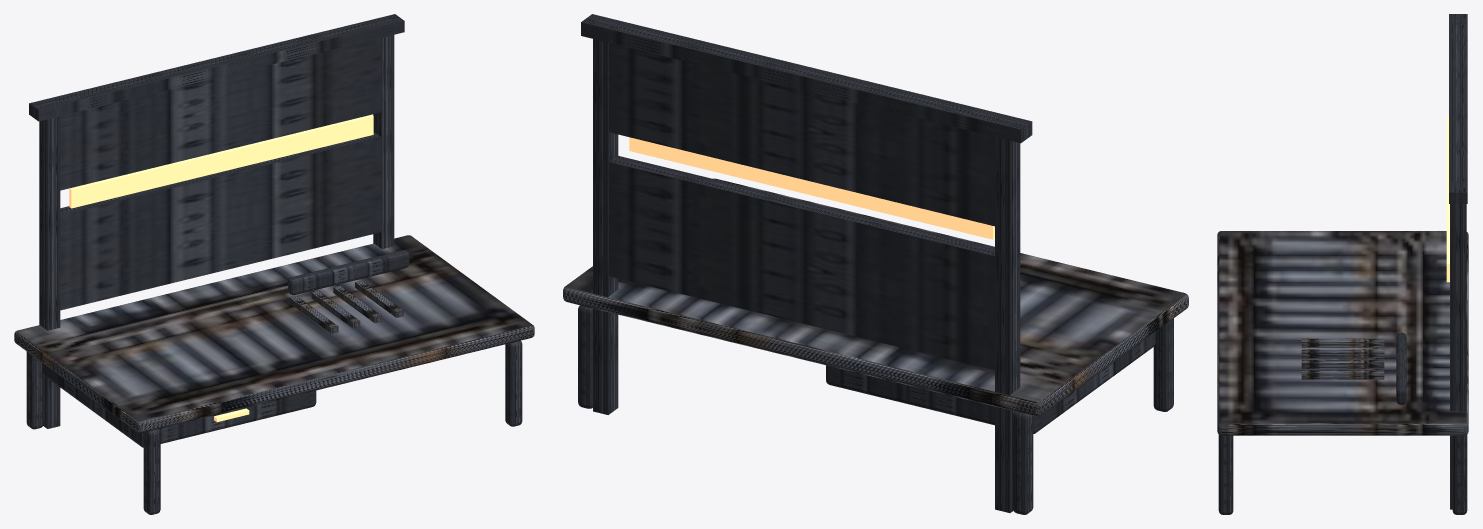
File: engine_toolbench.glb
The picture shows the model from 3 angles, left to right: view 1: azimuth 30°, elevation 25°; view 2: azimuth 150°, elevation 25°; view 3: azimuth 270°, elevation 25°; orthographic projection. The views are drawn at different scales.
Parts seen in each view (by area): view 1: sight_shell, top, sightglow, drawer, rack, leg20, leg00, leg02, tool1, tool3, tool0, tool2; view 2: sight_shell, top, sightglow, drawer, leg02, leg00, leg22; view 3: top, sight_shell, leg20, leg22, tool3, tool0, tool1, tool2, rack, sightglow.
Part boxes in pixels (x1,y1,x2,y2): sight_shell: (29, 14, 404, 428); top: (14, 235, 534, 433); sightglow: (69, 114, 373, 208); drawer: (42, 363, 316, 447); rack: (288, 250, 409, 295); leg20: (505, 340, 522, 426); leg00: (143, 429, 160, 514); leg02: (26, 351, 43, 429); tool1: (311, 291, 360, 328); tool3: (355, 280, 403, 317); tool0: (290, 296, 338, 333); tool2: (333, 285, 381, 322); sight_shell: (581, 14, 1032, 512); top: (563, 178, 1188, 416); sightglow: (629, 137, 994, 239); drawer: (826, 332, 1155, 433); leg02: (1013, 411, 1033, 514); leg00: (1153, 318, 1173, 411); leg22: (578, 305, 592, 408); top: (1217, 231, 1468, 435); sight_shell: (1449, 14, 1467, 509); leg20: (1218, 434, 1233, 514); leg22: (1452, 434, 1467, 514); tool3: (1301, 370, 1384, 379); tool0: (1301, 338, 1384, 347); tool1: (1301, 349, 1384, 358); tool2: (1301, 359, 1384, 368); rack: (1396, 332, 1406, 404); sightglow: (1446, 116, 1449, 282).
Size of the model in its own units: 2.2 by 1.7 by 1.2.
Materials: 5 (3 with a texture image).
